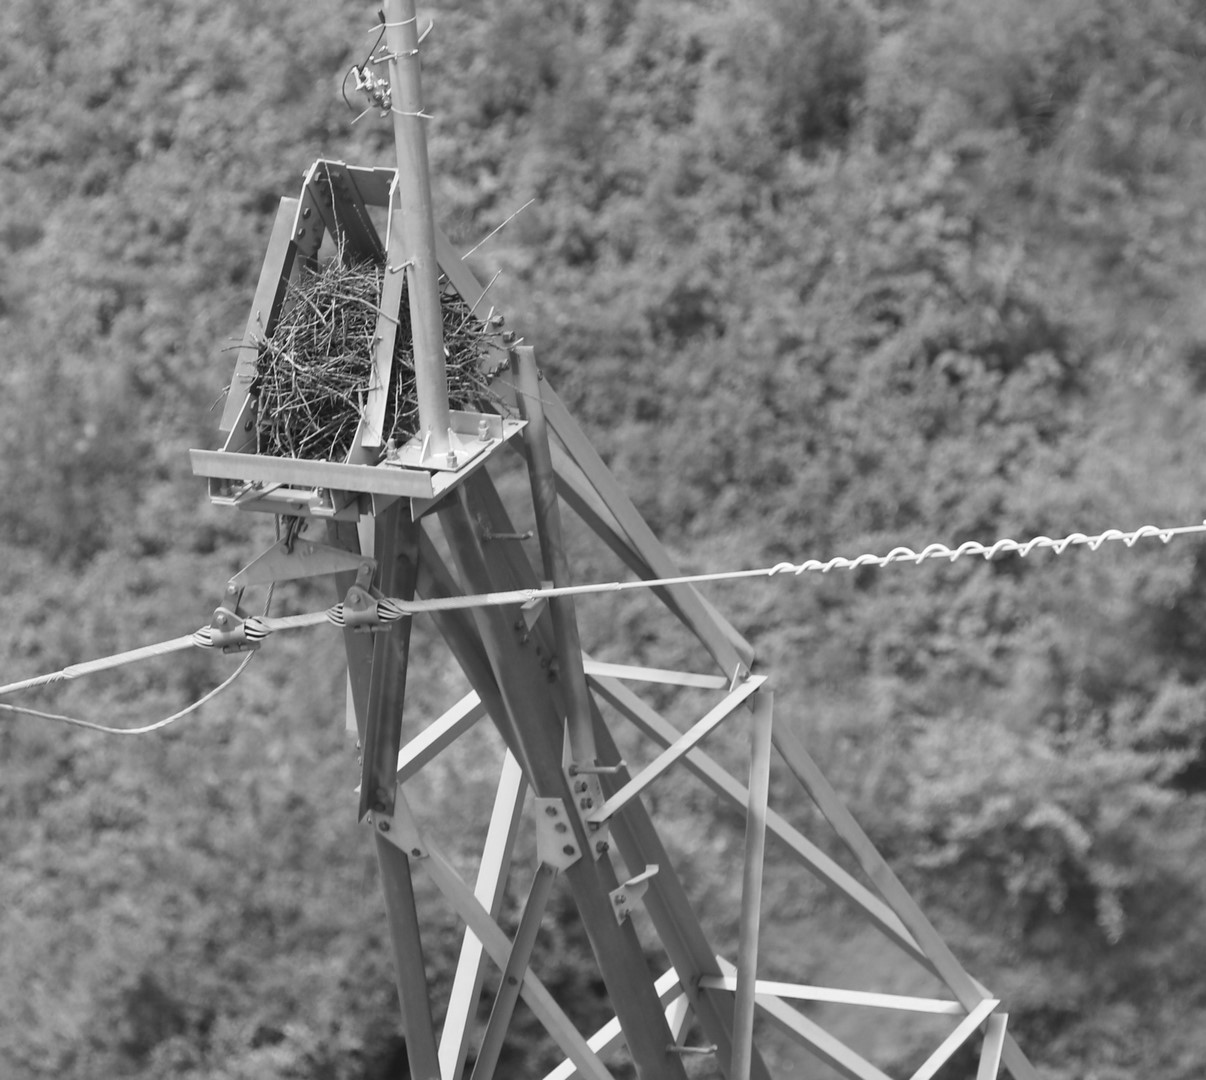niaowo: (224, 234, 486, 478)
